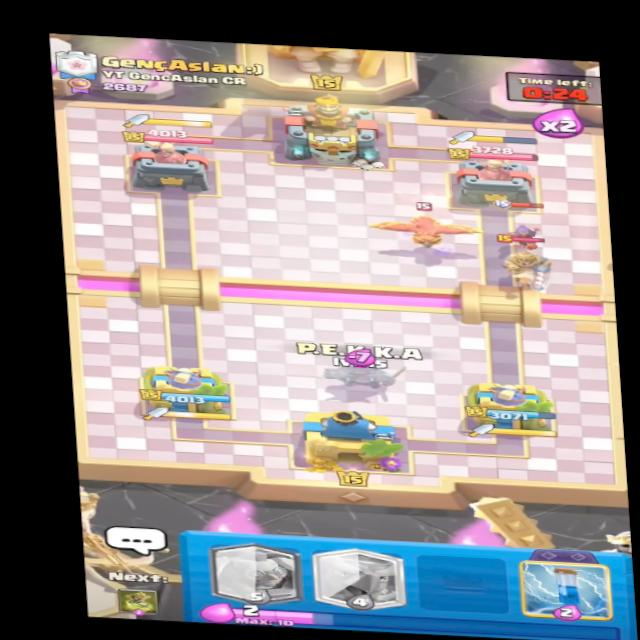evo-wizard: (495, 198, 556, 244)
phoenix: (366, 195, 479, 248)
prince: (494, 233, 564, 294)
